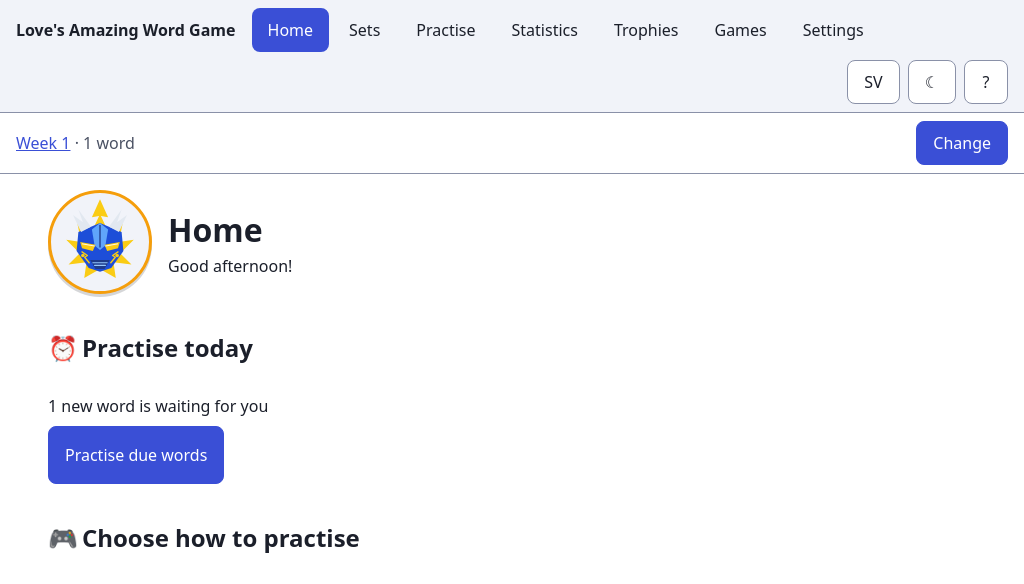
Test: trophy screen › NH-10: is reachable from the main navigation
Click the link "Trophies" at x=646, y=30, box [614,19,678,41]
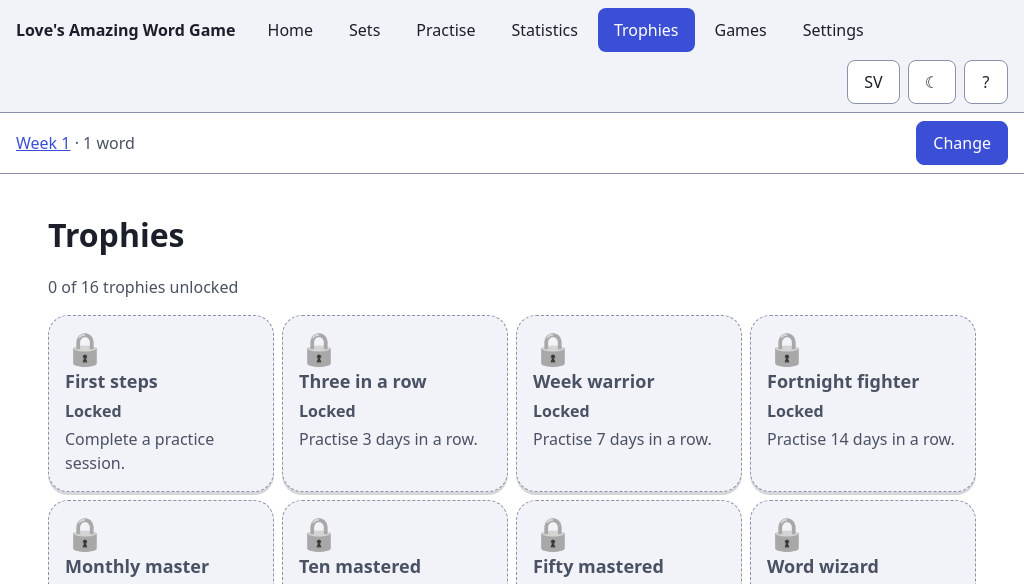
Now the heading "Trophies" is shown, box [48,213,184,256]
